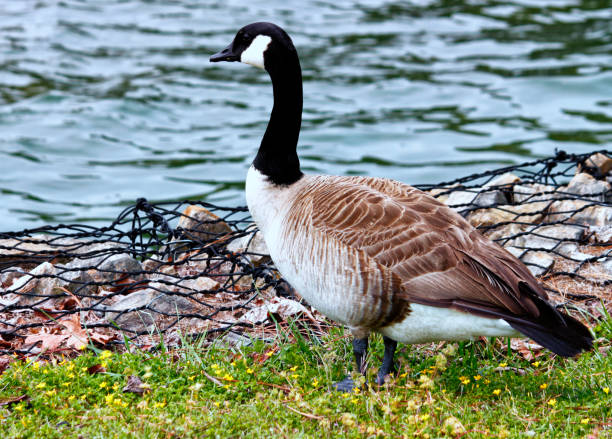goose: (204, 17, 601, 400)
